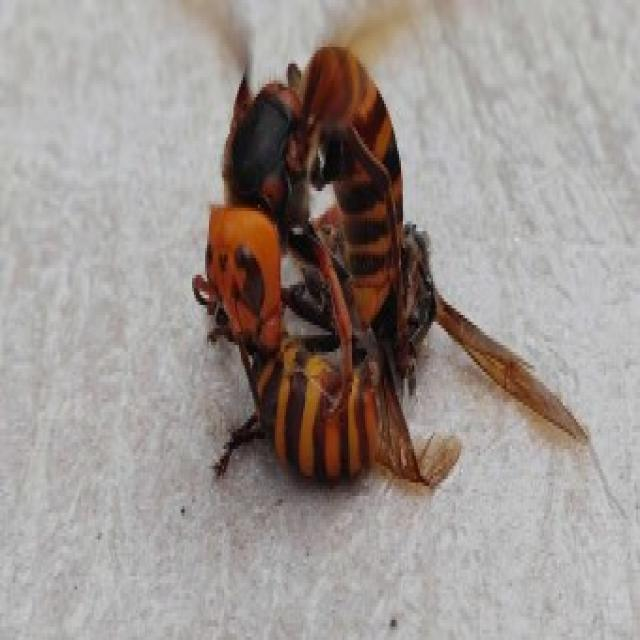Wasp: (167, 6, 417, 324)
